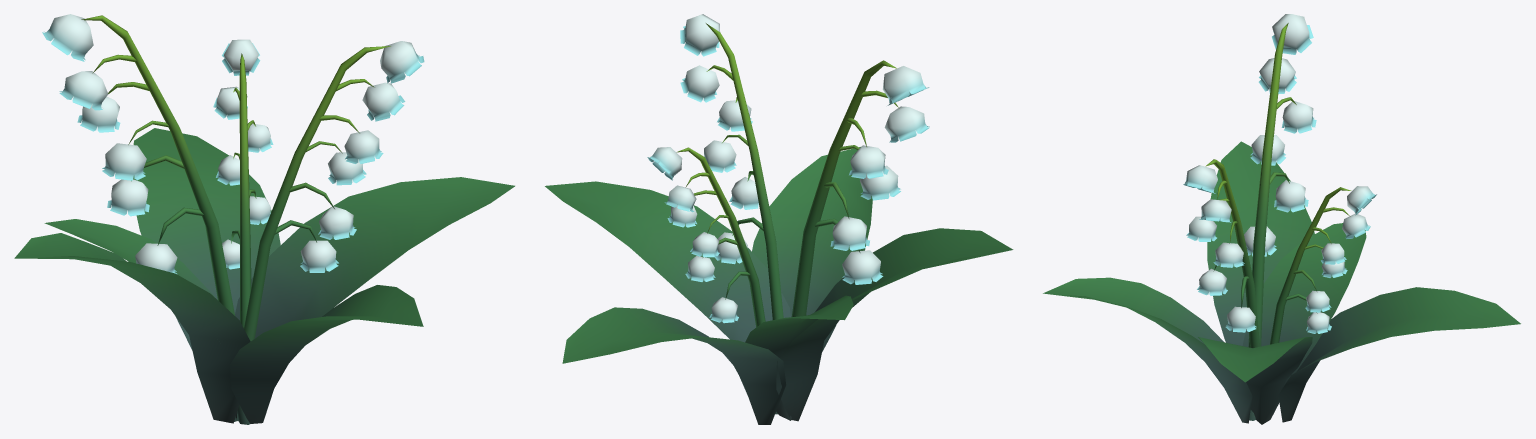
Rendered from Flower_006.fbx.
The picture shows the model from 3 angles, left to right: view 1: azimuth 30°, elevation 25°; view 2: azimuth 150°, elevation 25°; view 3: azimuth 270°, elevation 25°; orthographic projection. The views are drawn at different scales.
Visible parts, largest first — view 1: Flower.006; view 2: Flower.006; view 3: Flower.006.
Part boxes in pixels (bbox=[...]): Flower.006: bbox=[14, 14, 514, 424]; Flower.006: bbox=[545, 14, 1013, 424]; Flower.006: bbox=[1043, 14, 1520, 424].
Bounding box in the file's own units: 4.03 × 3.25 × 4.1.
